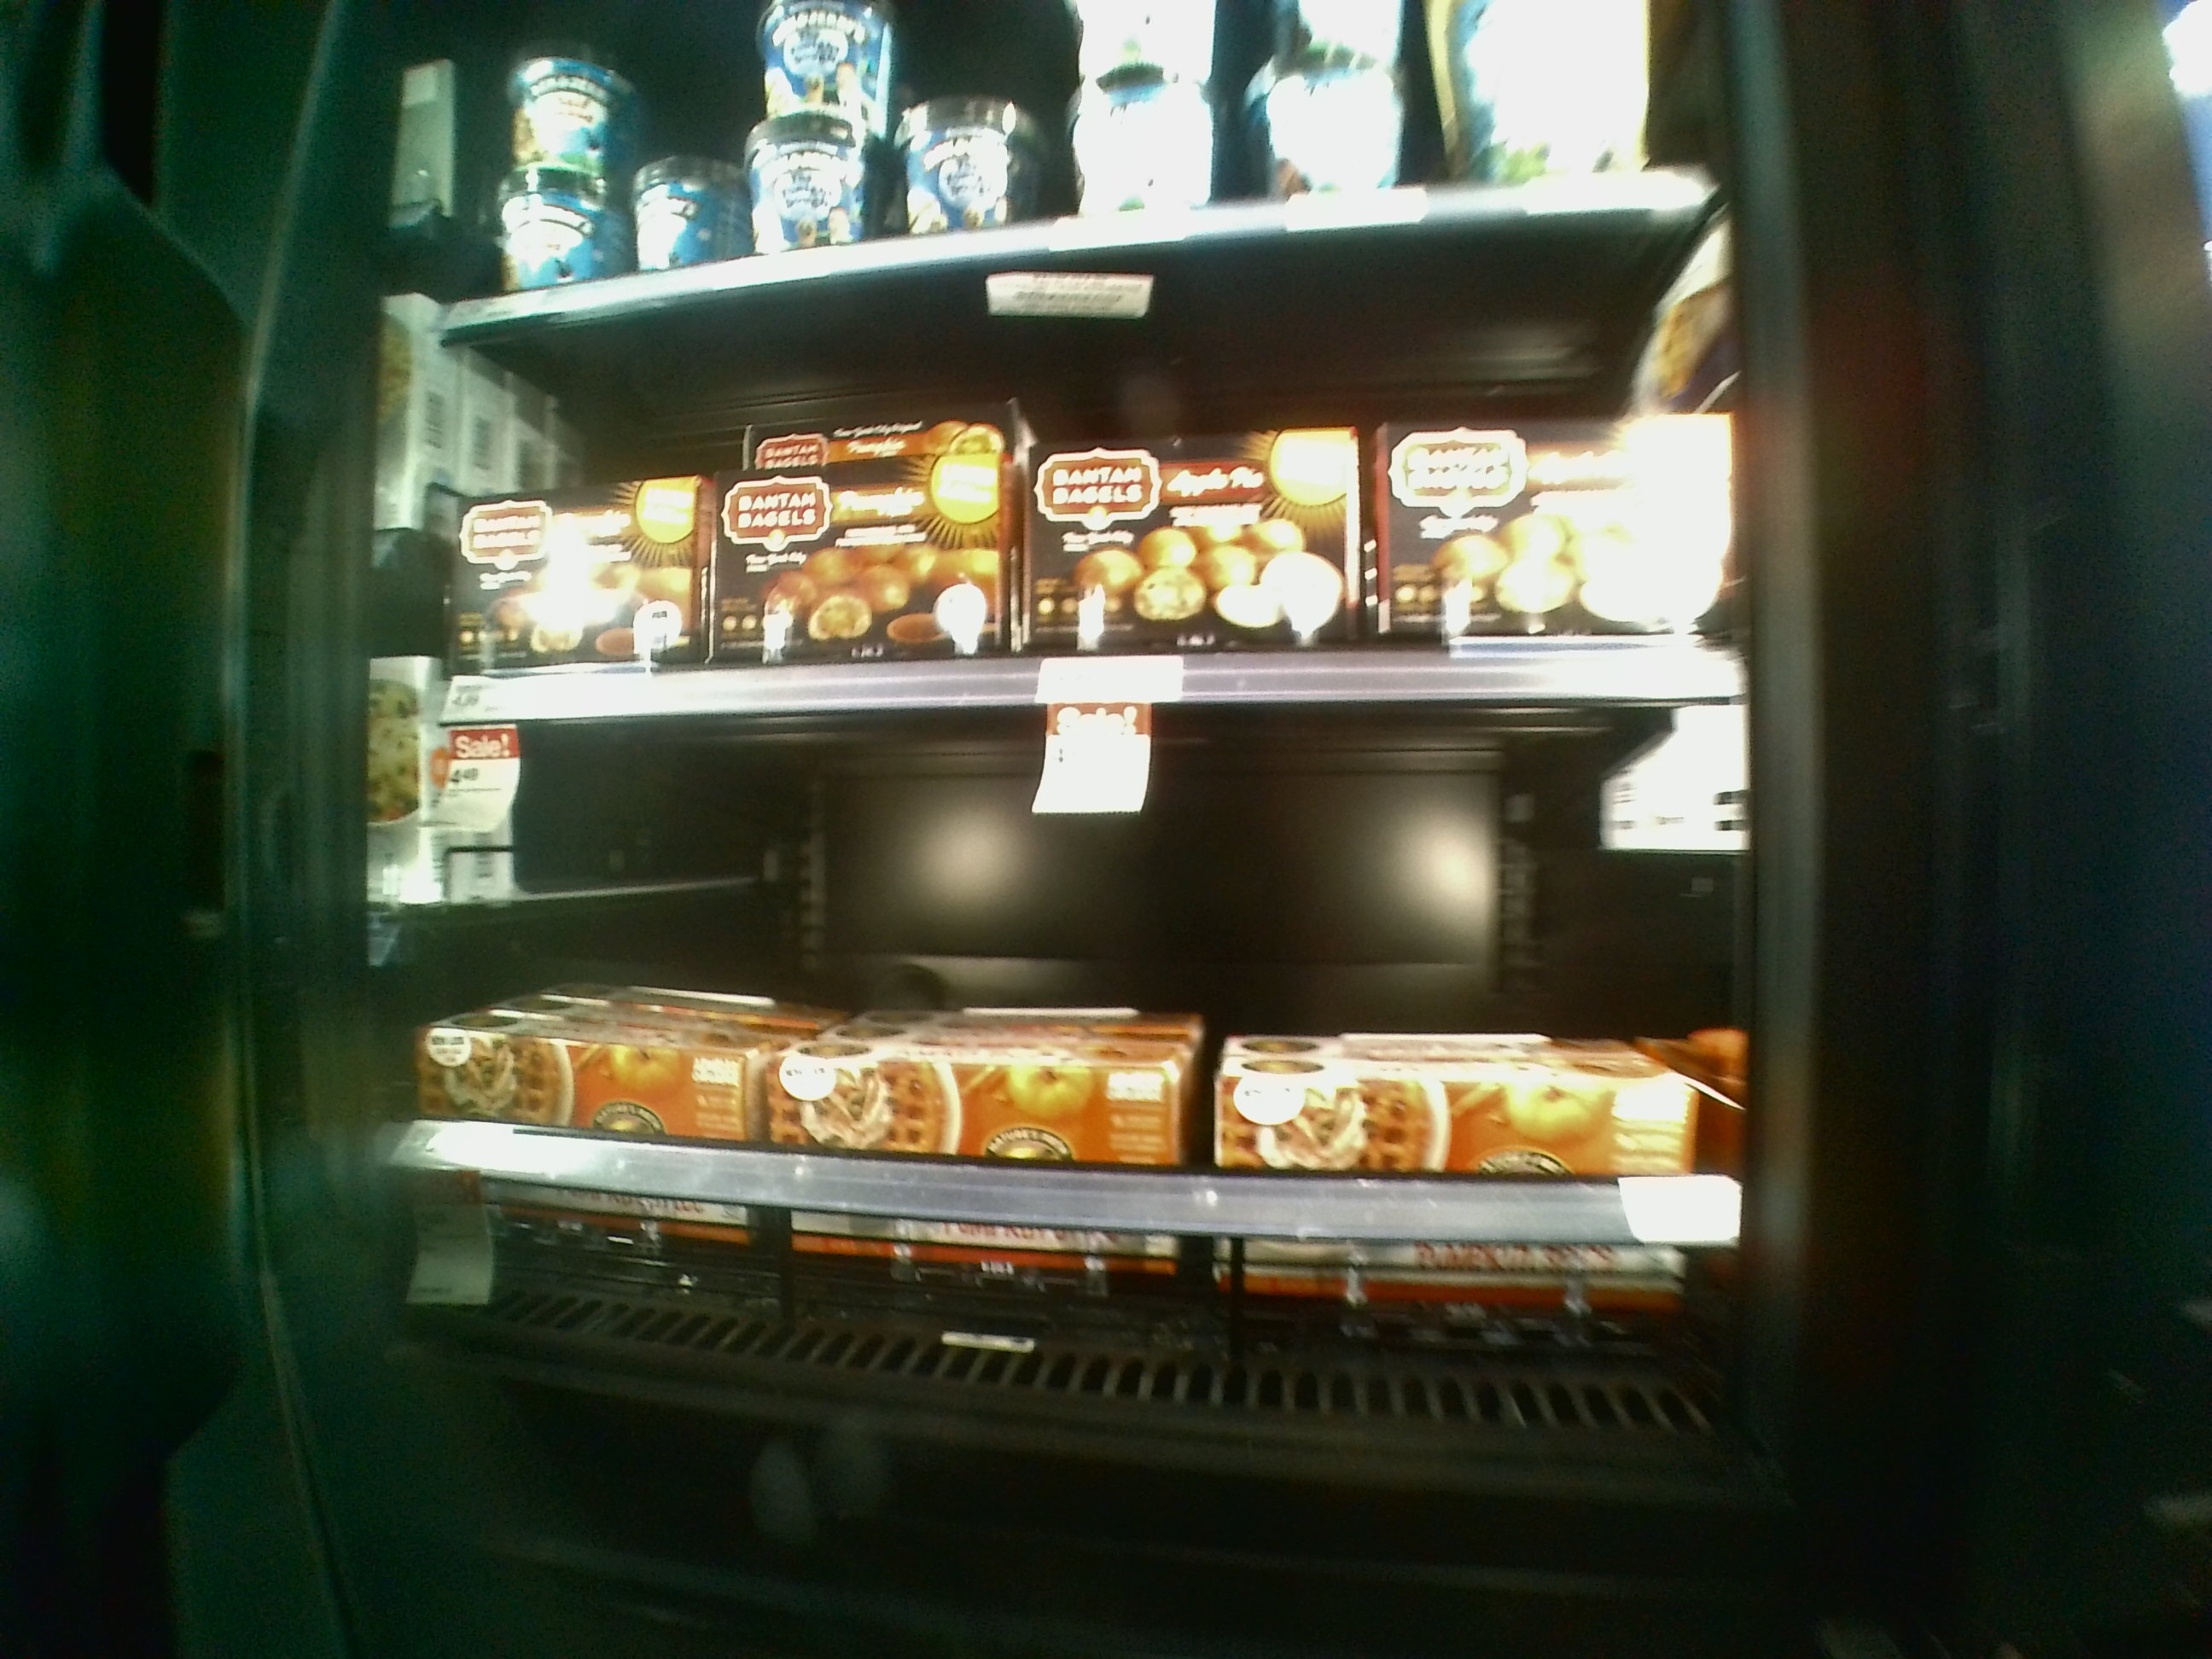shelf: (381, 673, 1757, 1432), (392, 284, 1731, 711)
